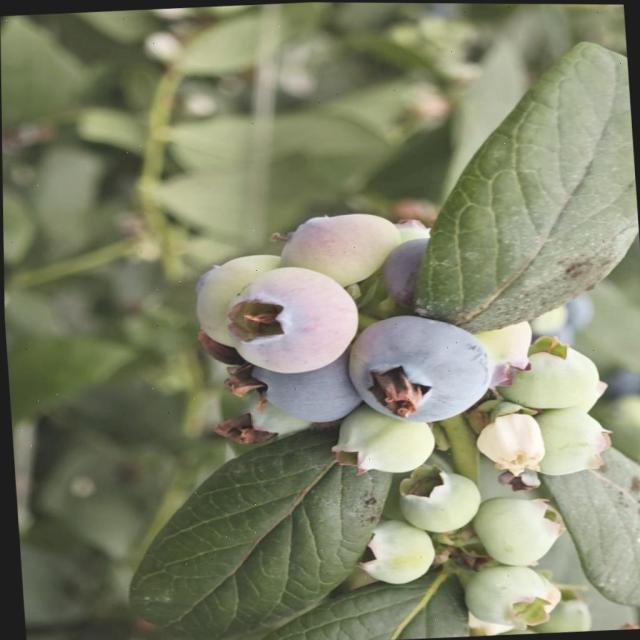RipeBlueBerry: (344, 311, 498, 430)
Semi-RipeBlueBerry: (220, 262, 363, 378)
